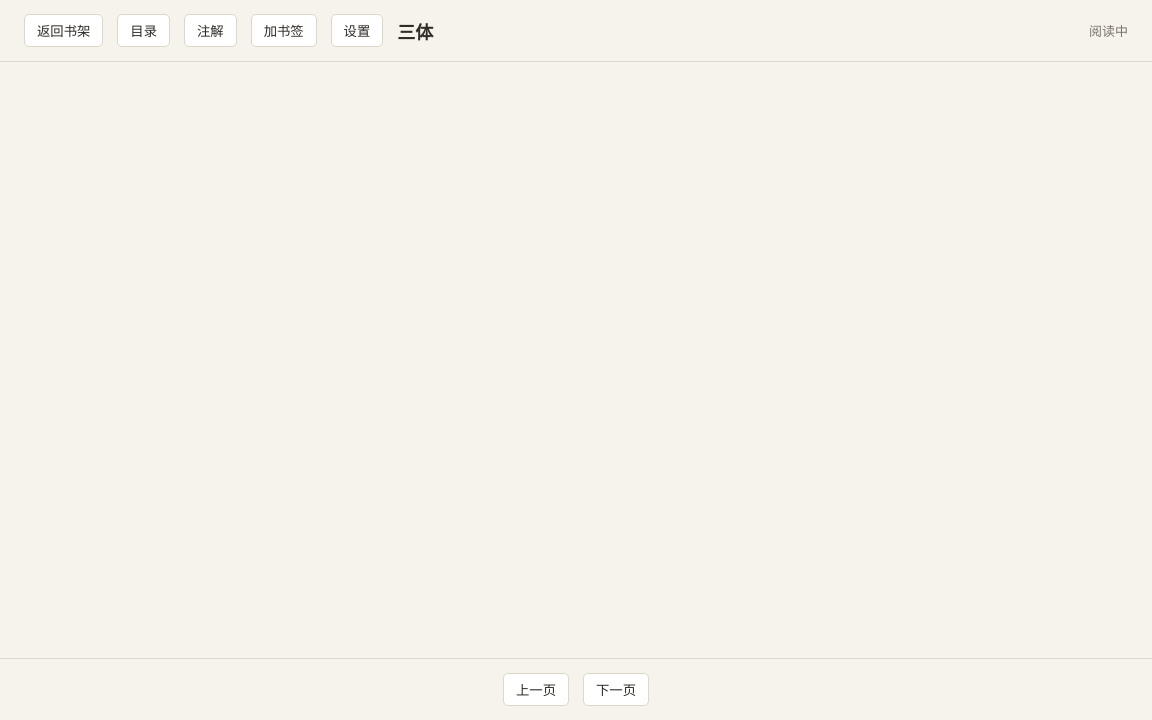
Scenario: EpubReaderView 阅读设置 › 渲染器不支持主题时设置面板仍可改，不会崩溃
The width and height of the screenshot is (1152, 720).
Expected: the text "阅读中" is shown, left=1089, top=21, right=1128, bottom=40
Click the button "设置" at [357, 30], box left=331, top=14, right=383, bottom=47
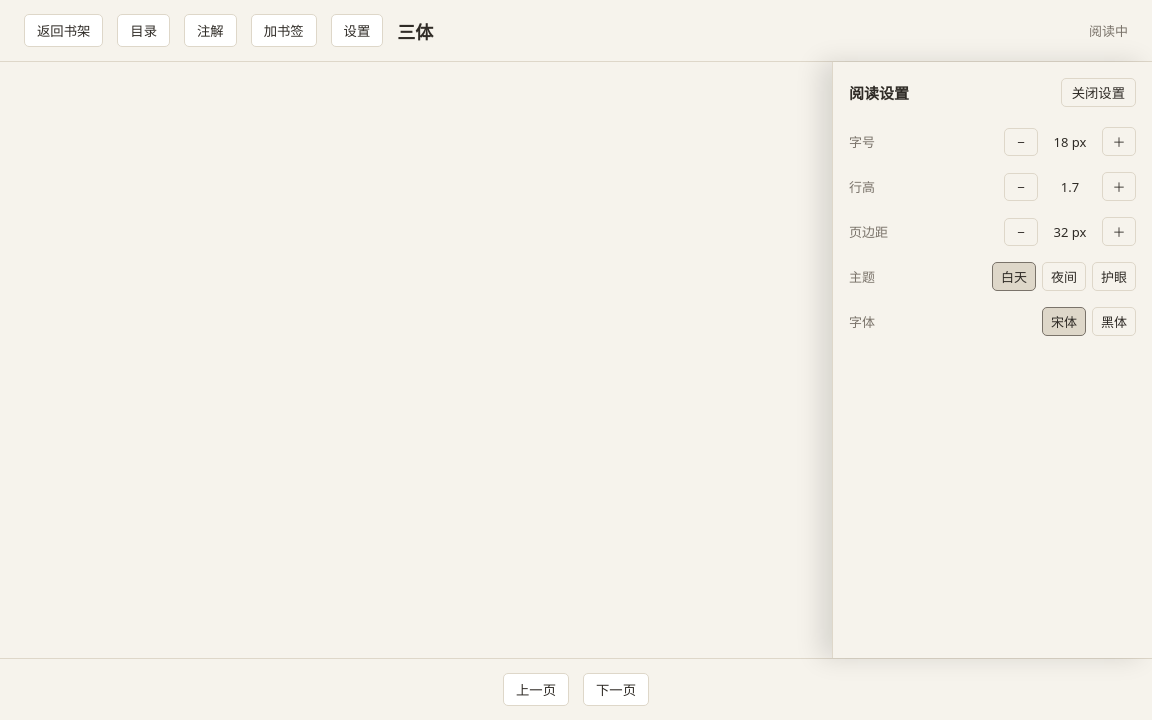
Click the button named "增大字号" at [1119, 142], box left=1102, top=127, right=1136, bottom=156
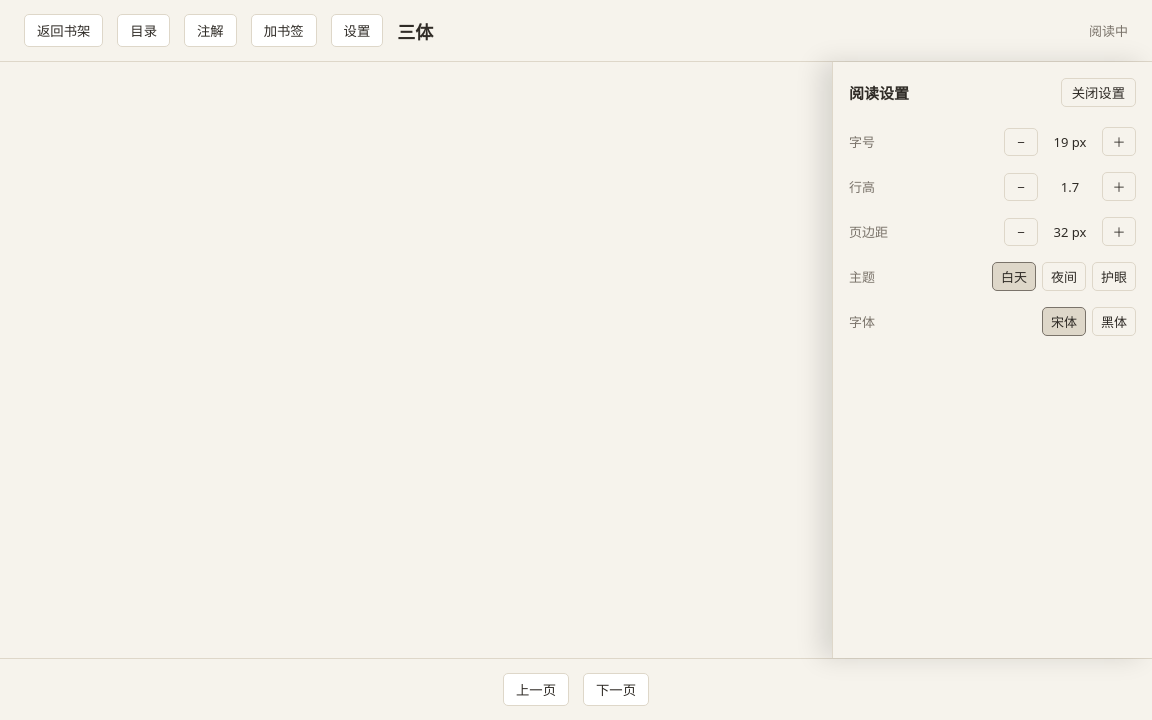
Expected: the text "阅读中" is shown, left=1089, top=21, right=1128, bottom=40
Now the text "19 px" is shown, box left=1054, top=132, right=1086, bottom=150
